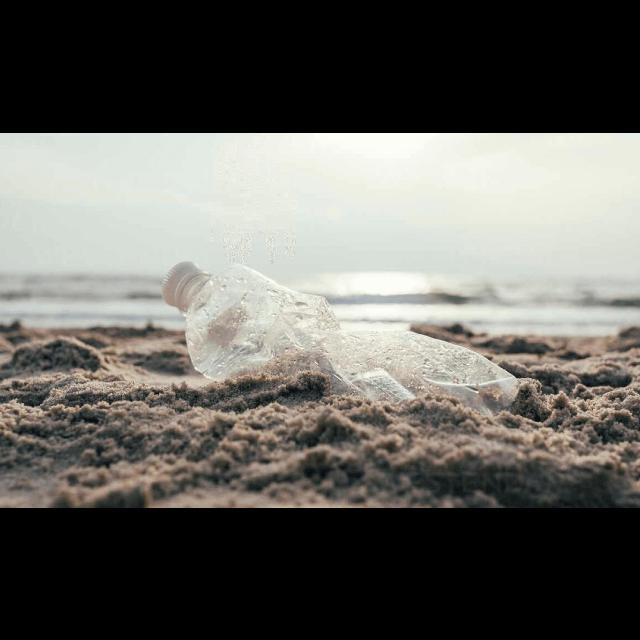garrafa plástica: (183, 264, 519, 408)
tampa plástica: (162, 260, 212, 304)
